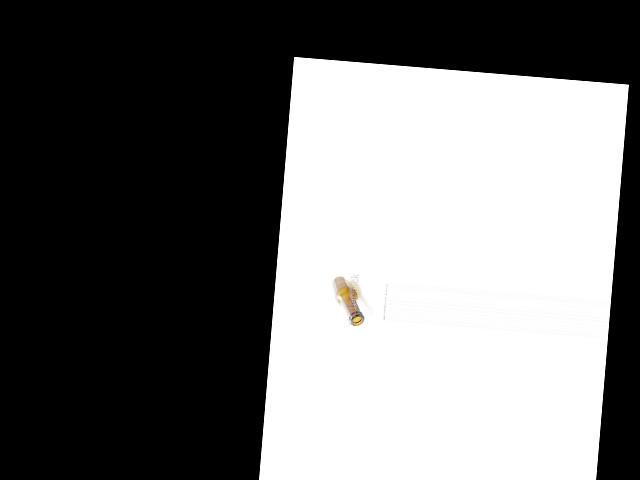beer: (329, 275, 368, 326)
